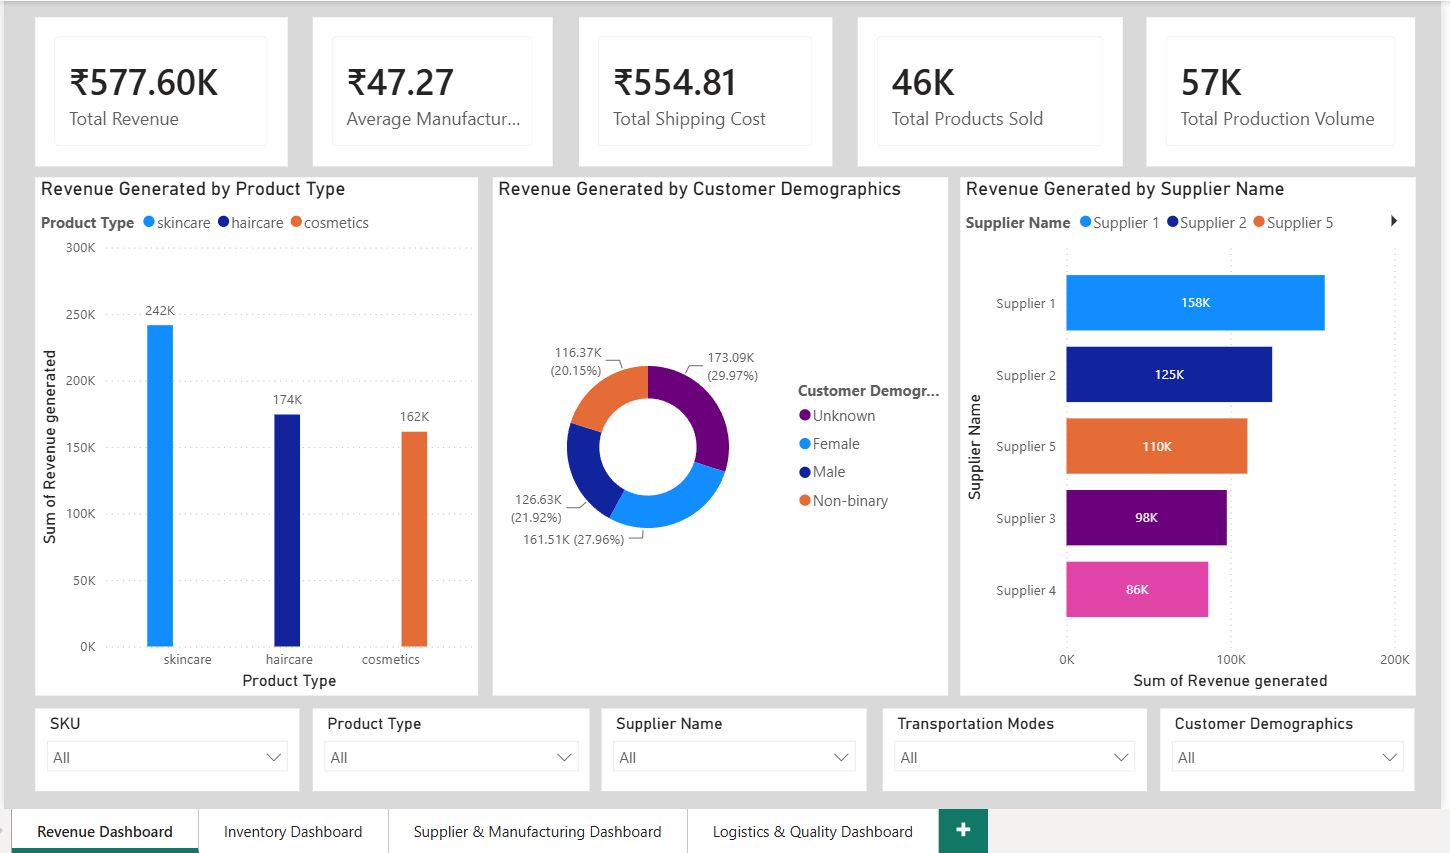

Layout of this report page (visuals, bound fields, positions):
{"tool":"powerbi","page":{"name":"Revenue Dashboard","canvas":[1280,720],"ordinal":0},"visuals":[{"type":"slicer","fields":{"Values":["supply_chain_data.Product type"]},"box":[274.4,630.2,246.5,73.3],"z":0},{"type":"slicer","fields":{"Values":["supply_chain_data.Supplier name"]},"box":[532.6,630.2,236,73.3],"z":1000},{"type":"slicer","fields":{"Values":["supply_chain_data.Transportation modes"]},"box":[782.6,630.2,234.9,73.3],"z":2000},{"type":"slicer","fields":{"Values":["supply_chain_data.Customer Demographics"]},"box":[1030.2,630.2,226.7,73.3],"z":3000},{"type":"slicer","fields":{"Values":["supply_chain_data.SKU"]},"box":[27.9,630.2,234.9,73.3],"z":4000},{"type":"cardVisual","fields":{"Data":["supply_chain_data.Total Revenue"]},"box":[27.9,14,224.4,132.6],"z":5000},{"type":"cardVisual","fields":{"Data":["supply_chain_data.Total Manufacturing Cost"]},"box":[274.4,14,214,132.6],"z":6000},{"type":"cardVisual","fields":{"Data":["supply_chain_data.Total Shipping Cost"]},"box":[511.6,14,225.6,132.6],"z":7000},{"type":"cardVisual","fields":{"Data":["supply_chain_data.Total Products Sold"]},"box":[760.5,14,236,132.6],"z":8000},{"type":"cardVisual","fields":{"Data":["supply_chain_data.Total Production Volume"]},"box":[1017.4,14,239.5,132.6],"z":9000},{"type":"clusteredColumnChart","title":"Revenue Generated by Product Type","fields":{"Y":["Sum(supply_chain_data.Revenue generated)"],"Category":["supply_chain_data.Product Type"],"Series":["supply_chain_data.Product Type"]},"box":[27.9,157,394.2,461.6],"z":10000},{"type":"donutChart","title":"Revenue Generated by Customer Demographics","fields":{"Category":["supply_chain_data.Customer Demographics"],"Y":["Sum(supply_chain_data.Revenue generated)"]},"box":[434.9,157,405.8,461.6],"z":11000},{"type":"barChart","title":"Revenue Generated by Supplier Name ","fields":{"Y":["Sum(supply_chain_data.Revenue generated)"],"Category":["supply_chain_data.Supplier Name"],"Series":["supply_chain_data.Supplier Name"]},"box":[851.2,157,405.8,461.6],"z":12000}]}

Visuals, with their boxes on the page's 1280x720 design canvas (x1, y1, x2, y2). These are canvas units, not pixel positions in the 1450x853 screenshot, which may show the page scaled, cropped or inside an application window:
slicer - supply_chain_data.Product type: 274:630:521:704
slicer - supply_chain_data.Supplier name: 533:630:769:704
slicer - supply_chain_data.Transportation modes: 783:630:1018:704
slicer - supply_chain_data.Customer Demographics: 1030:630:1257:704
slicer - supply_chain_data.SKU: 28:630:263:704
cardVisual - supply_chain_data.Total Revenue: 28:14:252:147
cardVisual - supply_chain_data.Total Manufacturing Cost: 274:14:488:147
cardVisual - supply_chain_data.Total Shipping Cost: 512:14:737:147
cardVisual - supply_chain_data.Total Products Sold: 760:14:996:147
cardVisual - supply_chain_data.Total Production Volume: 1017:14:1257:147
"Revenue Generated by Product Type" clusteredColumnChart: 28:157:422:619
"Revenue Generated by Customer Demographics" donutChart: 435:157:841:619
"Revenue Generated by Supplier Name " barChart: 851:157:1257:619
